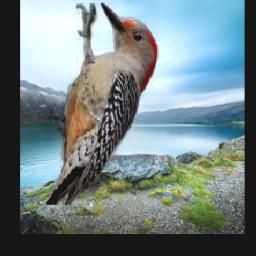Woodpecker: (46, 4, 159, 206)
